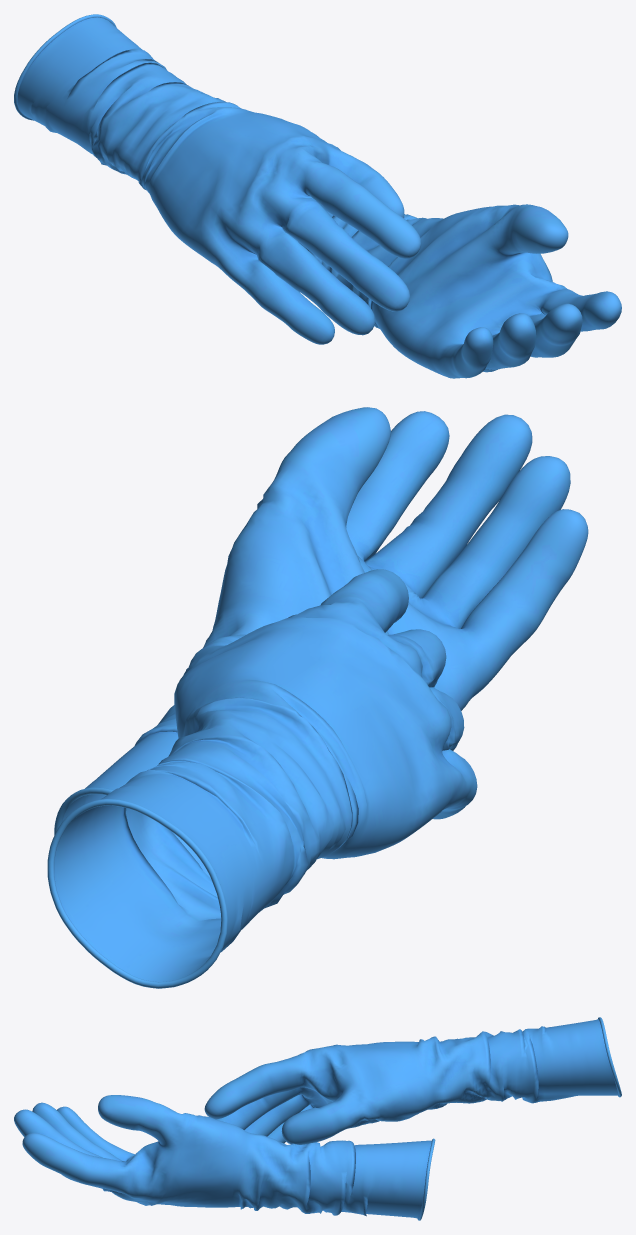
Rendered from gloves.glb.
3 views of the same model, one above another, from view 1: azimuth 30°, elevation 25°; view 2: azimuth 150°, elevation 25°; view 3: azimuth 270°, elevation 25° (orthographic). The views are drawn at different scales.
Parts seen in each view (by area): view 1: Glove_rubber_low, Glove_rubber_low.001; view 2: Glove_rubber_low, Glove_rubber_low.001; view 3: Glove_rubber_low.001, Glove_rubber_low.
Boxes of the visible parts, bbox=[...] form: Glove_rubber_low: bbox=[14, 14, 421, 344]; Glove_rubber_low.001: bbox=[298, 204, 621, 378]; Glove_rubber_low: bbox=[47, 569, 477, 988]; Glove_rubber_low.001: bbox=[54, 407, 588, 835]; Glove_rubber_low.001: bbox=[14, 1095, 435, 1220]; Glove_rubber_low: bbox=[204, 1017, 621, 1144].
Size of the model in its own units: 14 by 10.44 by 35.93.
1 material, 1 textured.
